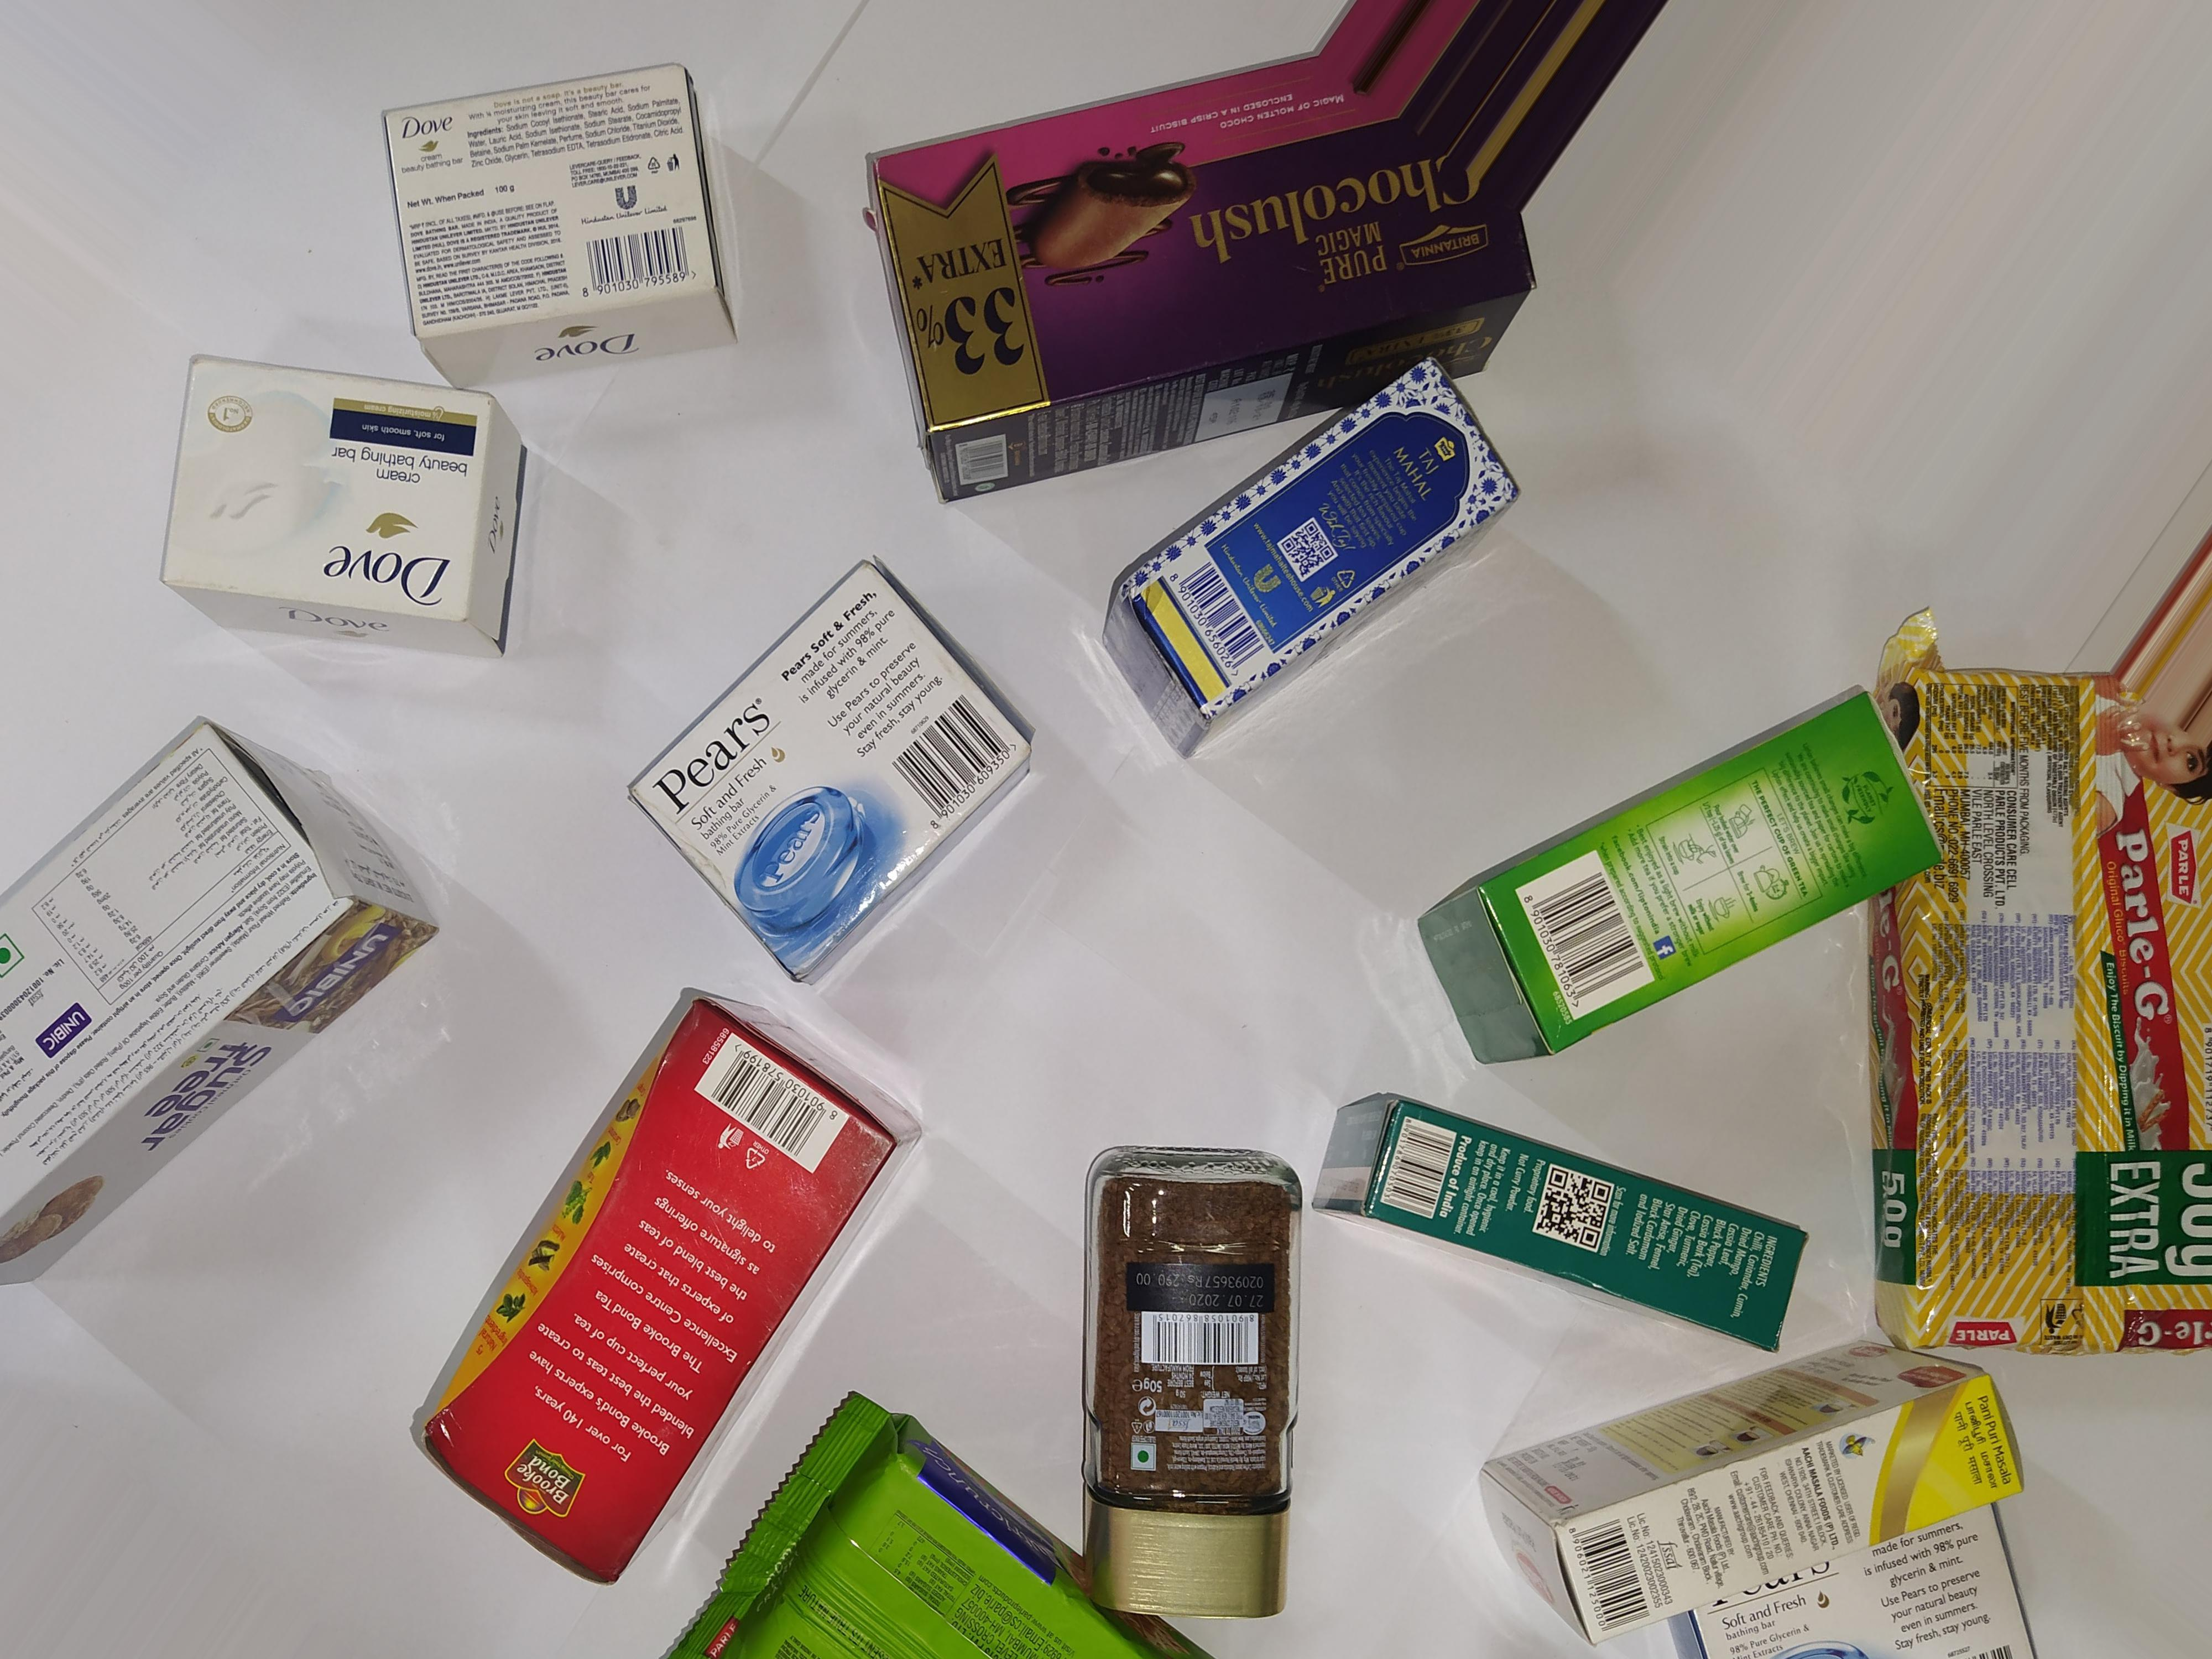Bar_code: (686, 1019, 859, 1204), (1503, 854, 1677, 1030), (880, 690, 1040, 830), (1153, 535, 1278, 681), (1367, 1089, 1460, 1234), (1568, 1514, 1660, 1650), (580, 230, 704, 321)
Item: (817, 77, 1609, 446), (1851, 589, 2212, 1399), (448, 969, 866, 1589), (1388, 681, 1946, 1100), (7, 711, 409, 1286), (606, 565, 1040, 971), (1092, 354, 1554, 721), (1038, 1124, 1345, 1652), (1327, 1079, 1825, 1380), (146, 352, 549, 667), (338, 75, 775, 362)
QR_code: (1529, 1157, 1632, 1267), (1275, 512, 1345, 596)
